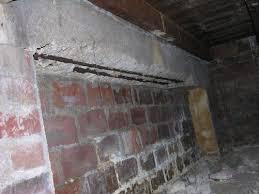exposed_rebar: (33, 53, 184, 85)
spalling: (32, 39, 186, 88)
